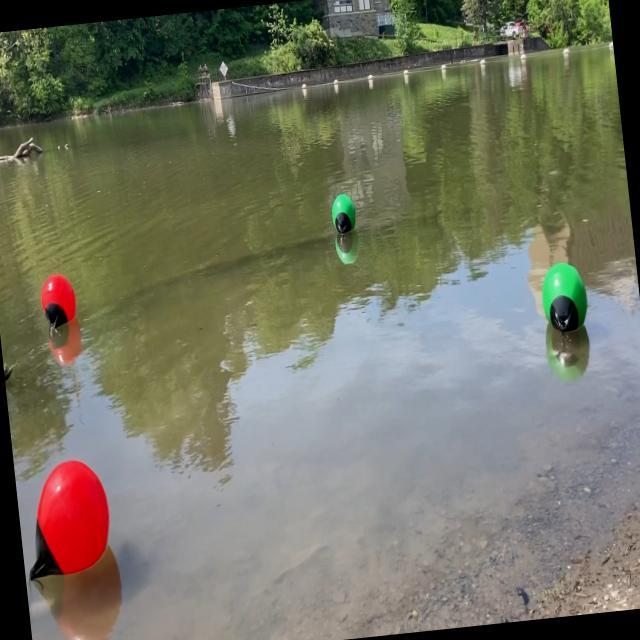buoy: (15, 453, 118, 582), (535, 254, 592, 334), (36, 271, 81, 335), (326, 190, 360, 237)
